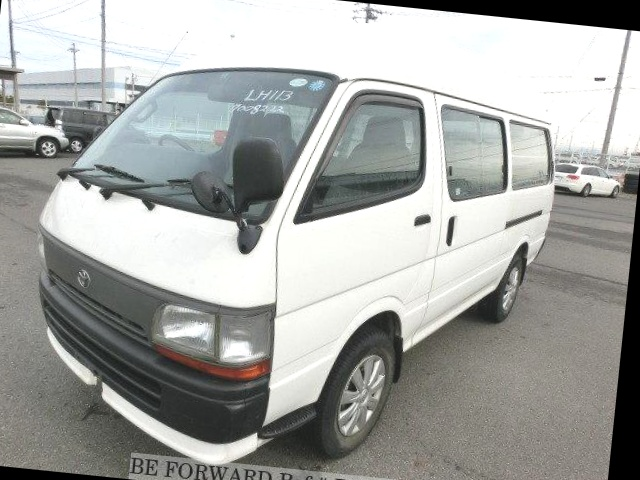van: (17, 35, 568, 480)
